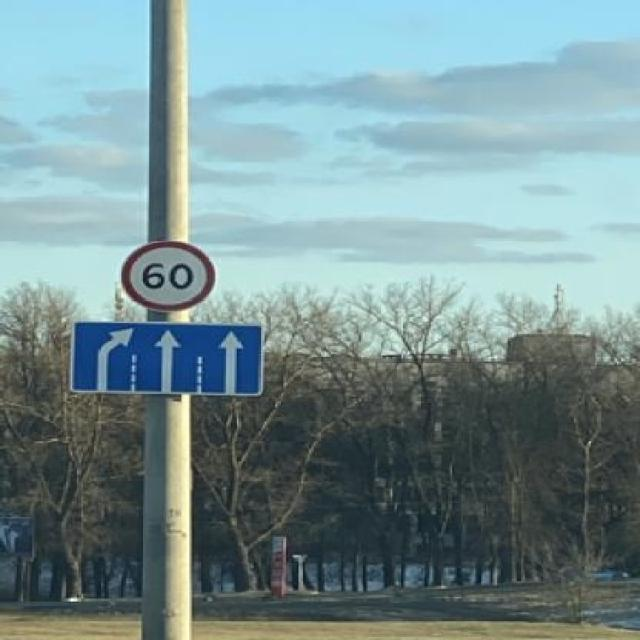forb_speed_over_60: (121, 240, 214, 311)
